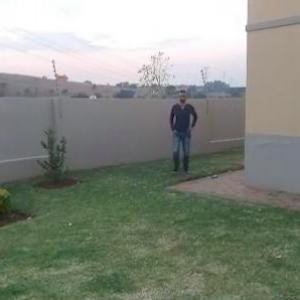follow: (169, 88, 198, 174)
